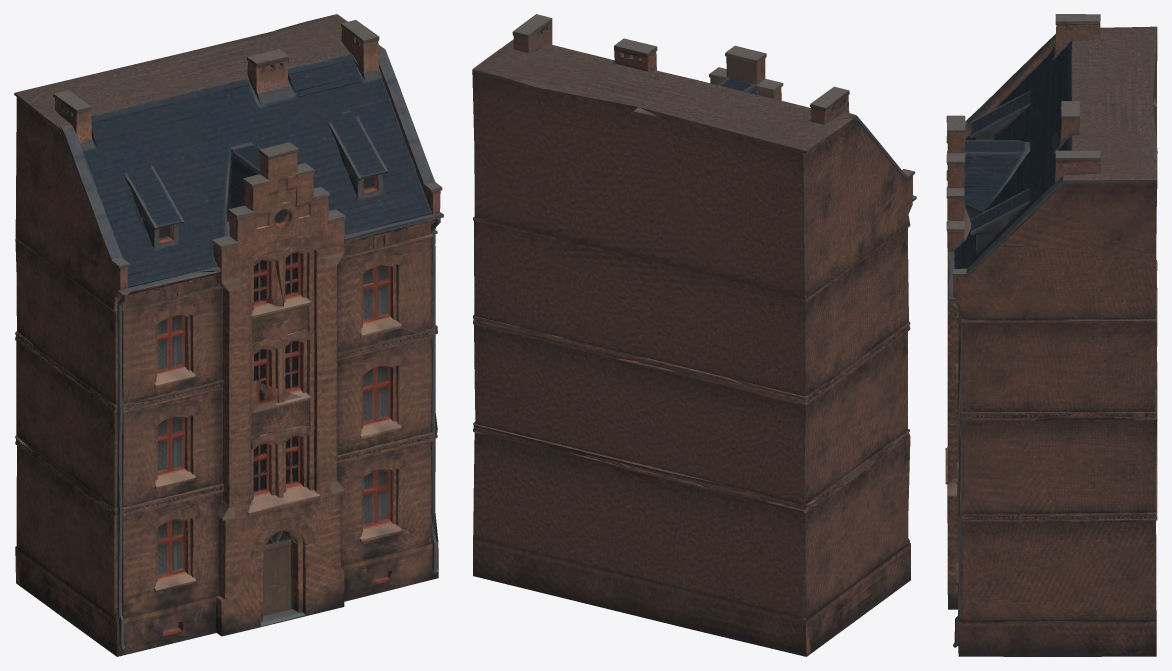
File: colony_house_c2_risalit.glb
3 views of the same model, side by side, from view 1: azimuth 30°, elevation 25°; view 2: azimuth 150°, elevation 25°; view 3: azimuth 270°, elevation 25° (orthographic). The views are drawn at different scales.
Visible parts, largest first — view 1: main; view 2: main; view 3: main.
Boxes of the visible parts, x1,y1,x2,y2 form: main: [14, 14, 443, 656]; main: [472, 14, 916, 656]; main: [945, 14, 1157, 656].
Bounding box in the file's own units: 8.33 × 12.5 × 4.85.
1 material, 1 textured.
